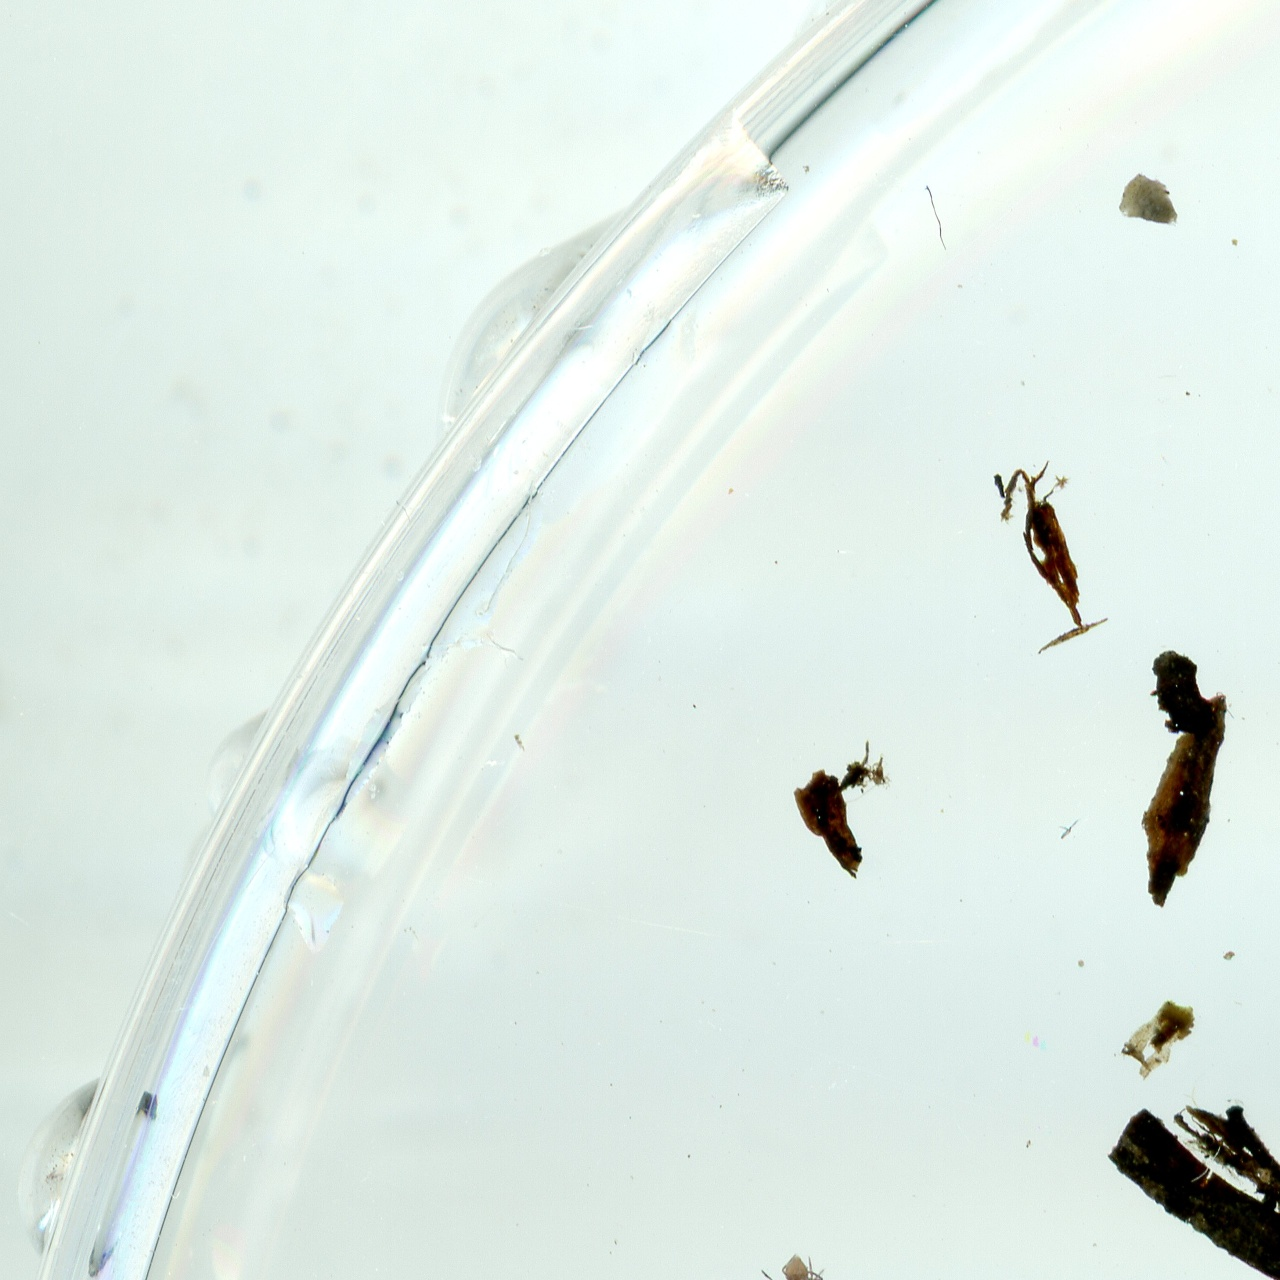arthropod: (756, 1252, 833, 1280)
